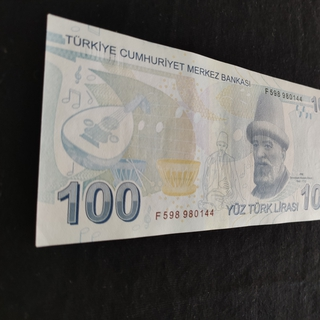100TLBack: (34, 13, 320, 248)
